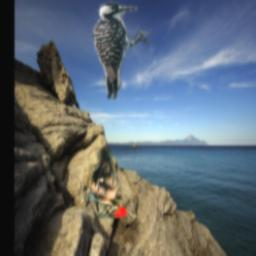Woodpecker: (91, 1, 152, 99), (86, 146, 128, 220)
